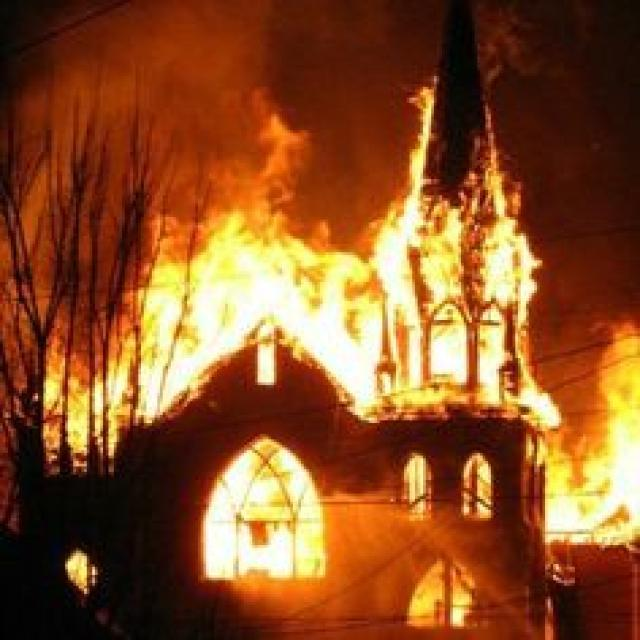Fire: (422, 101, 564, 438), (214, 242, 396, 416), (227, 440, 377, 610), (552, 331, 638, 550)
Smoke: (118, 2, 406, 222)
